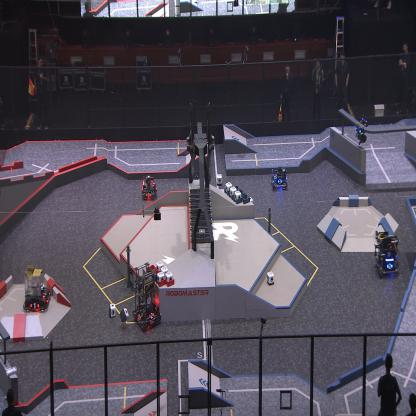car: (131, 261, 162, 330), (22, 263, 51, 312), (374, 230, 402, 276), (141, 173, 158, 200), (270, 166, 288, 190)
